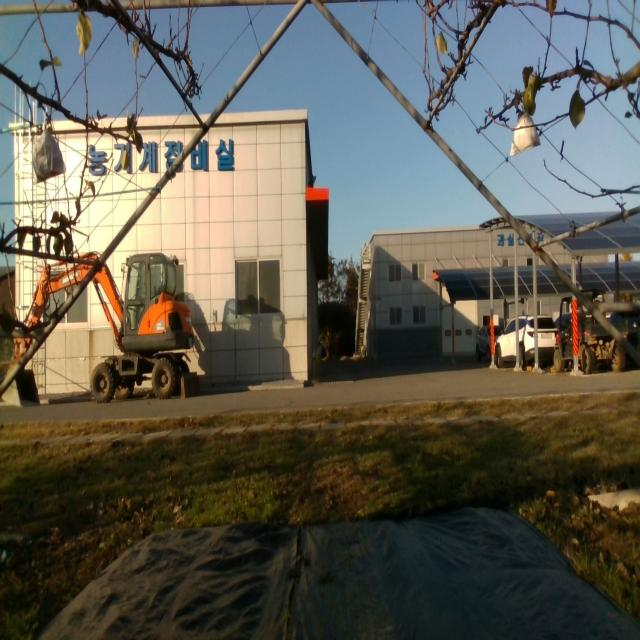pearbags: (33, 123, 67, 185), (509, 114, 539, 158)
